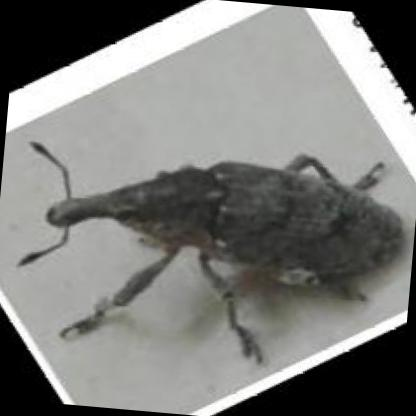ash weevil: (37, 150, 408, 362)
